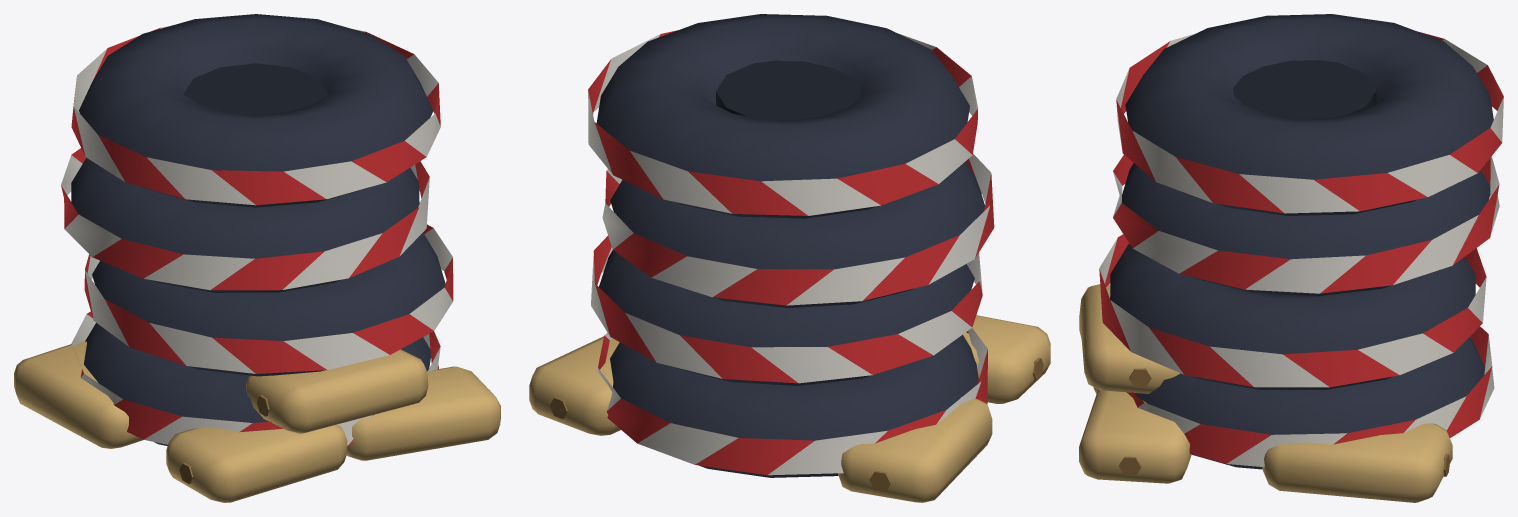
The model's file is tires.glb.
3 renders of one model, left to right at view 1: azimuth 30°, elevation 25°; view 2: azimuth 150°, elevation 25°; view 3: azimuth 270°, elevation 25°, orthographic. The views are drawn at different scales.
Visible parts, largest first — view 1: tires; view 2: tires; view 3: tires.
Part boxes in pixels (x1,y1,x2,y2): tires: [14, 14, 500, 502]; tires: [529, 14, 1050, 502]; tires: [1079, 14, 1503, 502].
Bounding box in the file's own units: 2.42 × 2 × 2.23.
